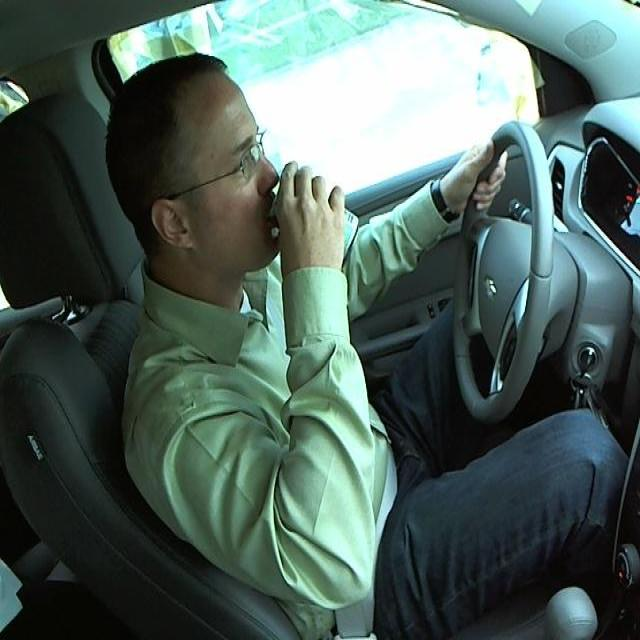Seatbelt: (276, 171, 360, 252)
